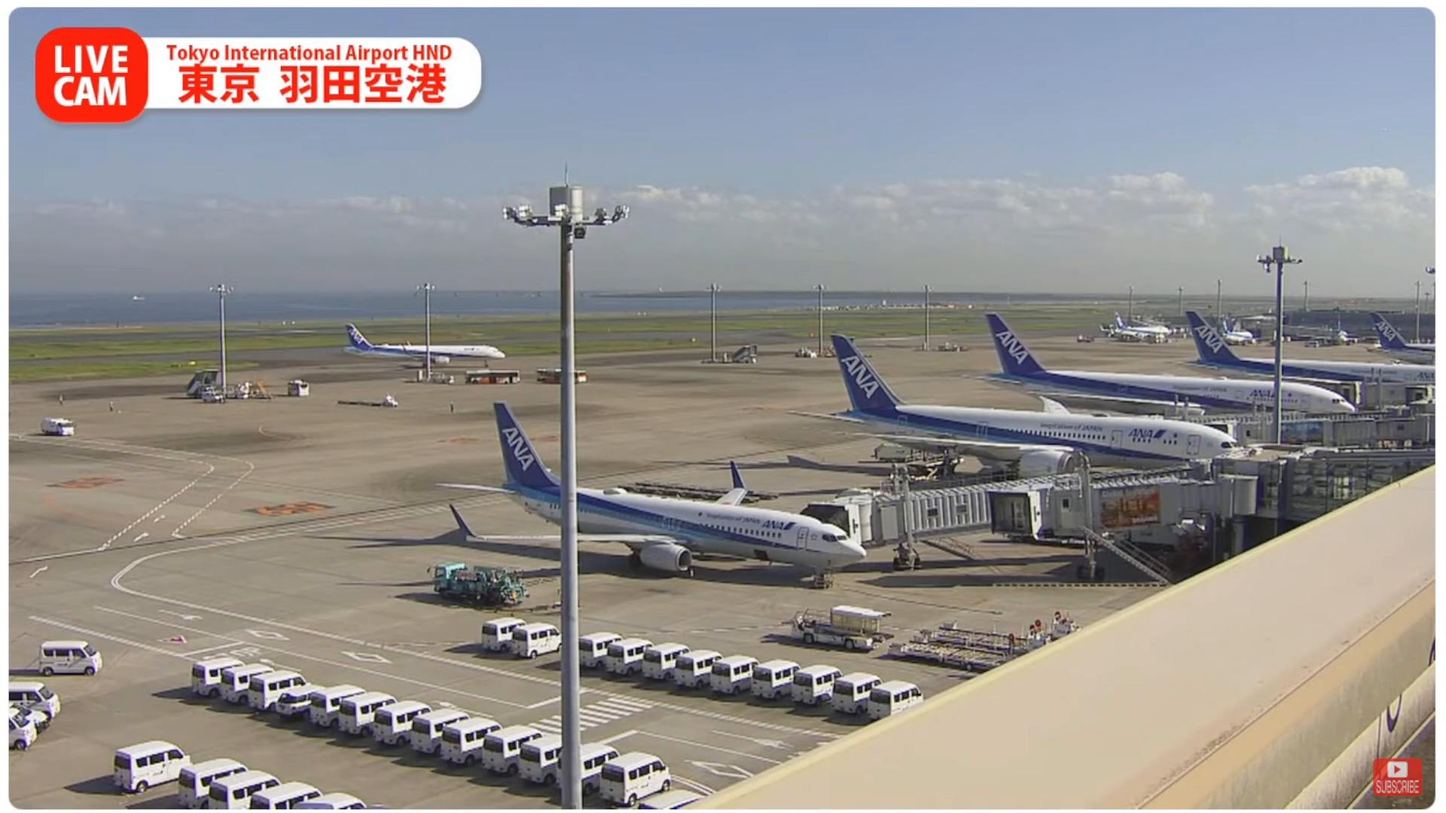Aerobridge: (812, 458, 1220, 543), (991, 451, 1256, 537)
Airplane: (438, 402, 868, 589)
Fuel Tanker: (433, 563, 528, 607)
JCPL: (918, 616, 1075, 656), (890, 639, 1018, 670)
Skyloader: (793, 603, 894, 653)
Window: (1290, 445, 1435, 519)
